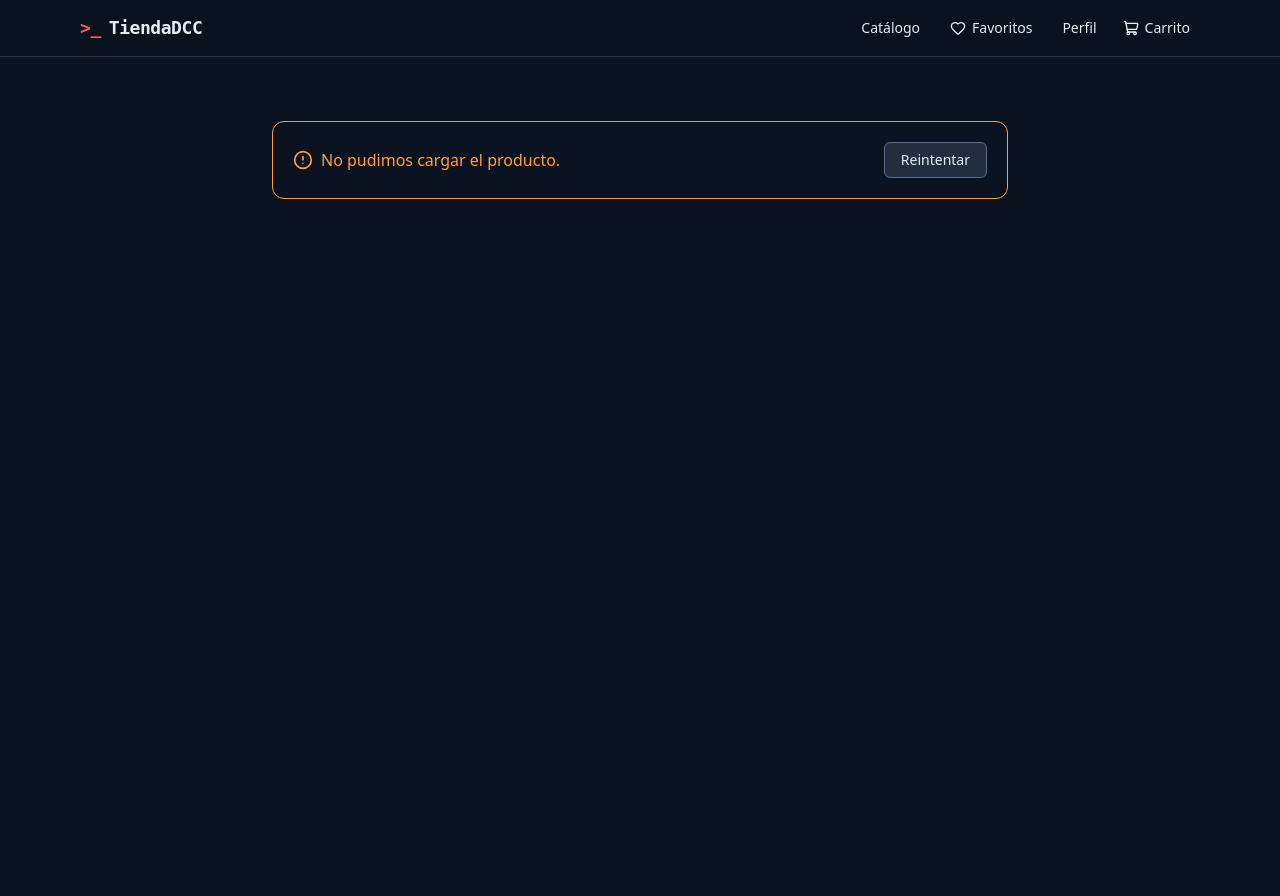
App › returns home from the detail via the logo
What coordinates should you click on to do the following:
click the link ">_TiendaDCC"
I would click on:
 (141, 28)
Its box is [80, 14, 202, 42].
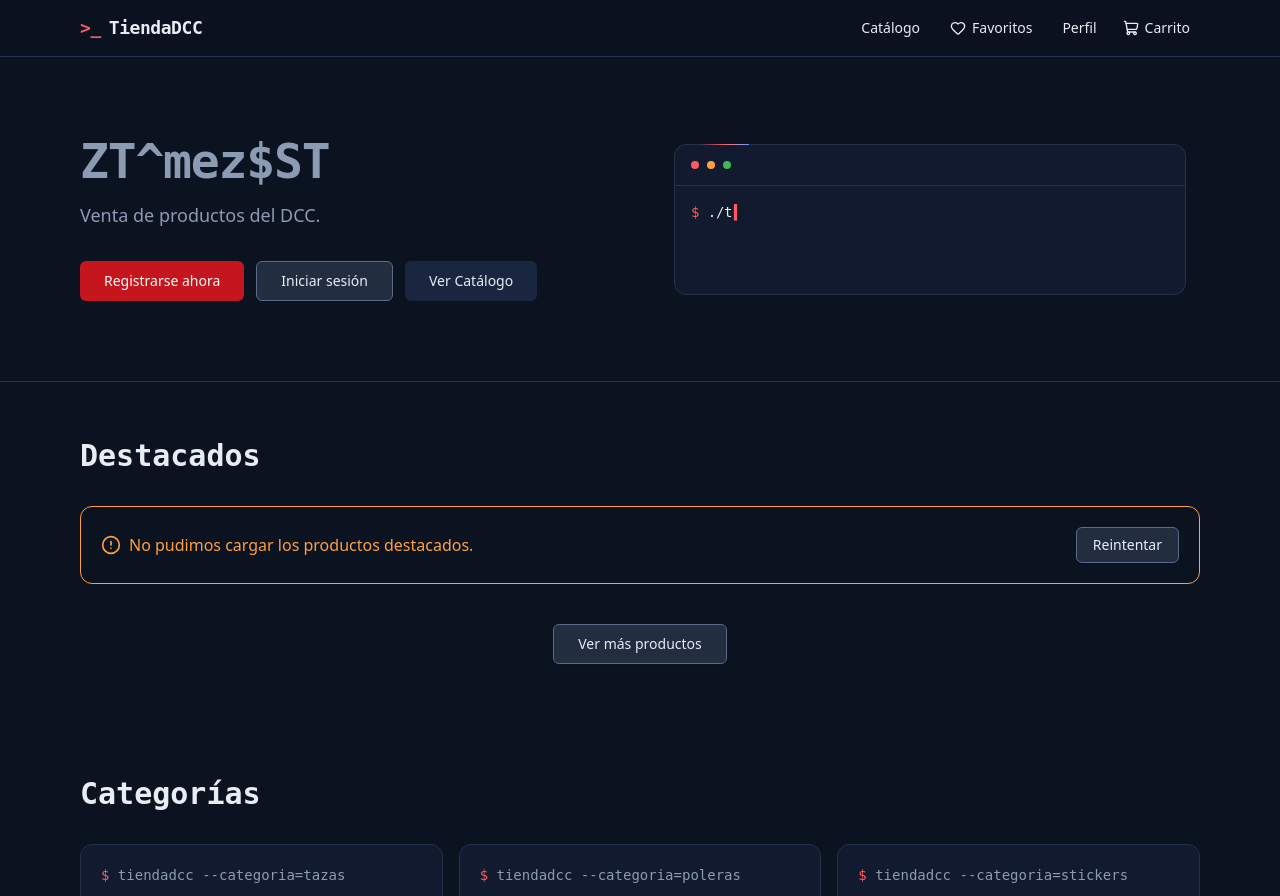
Expected: the heading named "TiendaDCC" is shown, [79, 132, 329, 189]
